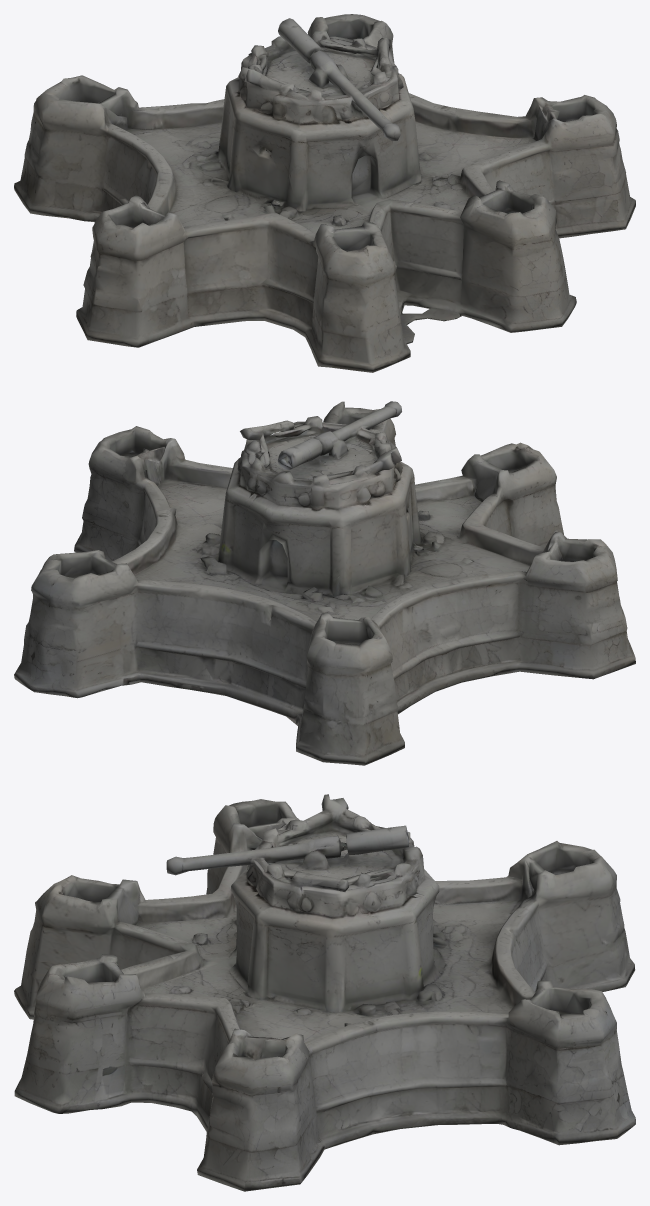
Rendered from fortress.glb.
3 views of the same model, one above another, from view 1: azimuth 30°, elevation 25°; view 2: azimuth 150°, elevation 25°; view 3: azimuth 270°, elevation 25° (orthographic). The views are drawn at different scales.
Visible parts, largest first — view 1: body; view 2: body; view 3: body.
Part boxes in pixels (left/top/right/bottom): body: left=14, top=14, right=635, bottom=372; body: left=14, top=401, right=635, bottom=765; body: left=14, top=794, right=635, bottom=1191.
Bounding box in the file's own units: 20.55 × 7.2 × 18.46.
1 material, 1 textured.
